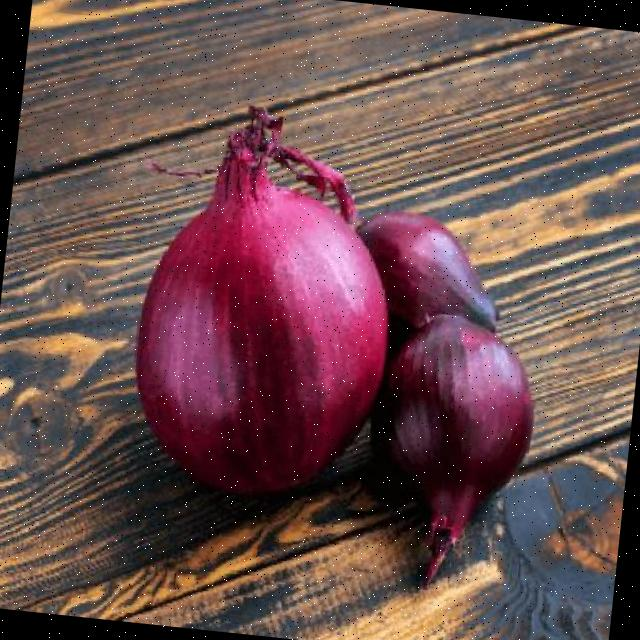Onion: (135, 106, 388, 494), (375, 315, 533, 585), (359, 211, 496, 331)
